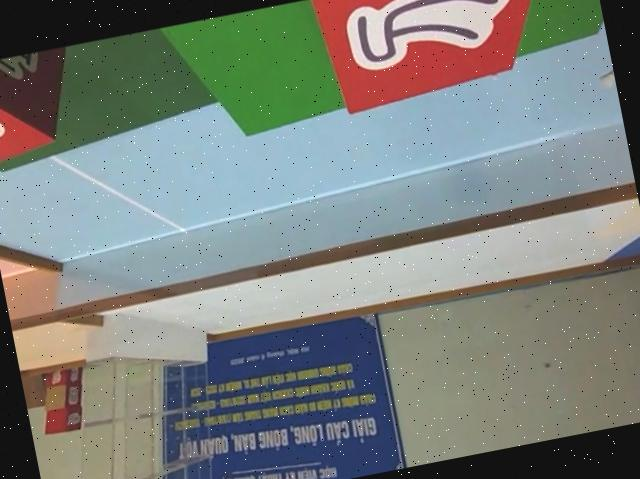R2 Fake: (306, 0, 581, 122)
R2 Real: (0, 46, 83, 183)
